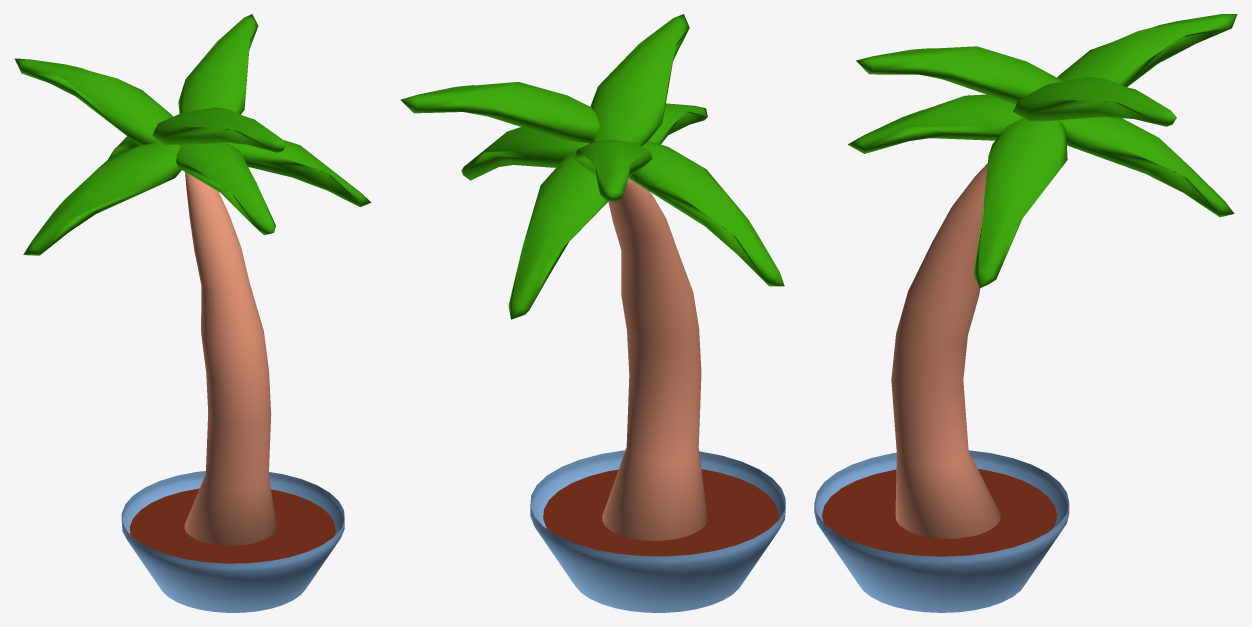
File: PalmTree.fbx
3 views of the same model, side by side, from view 1: azimuth 30°, elevation 25°; view 2: azimuth 150°, elevation 25°; view 3: azimuth 270°, elevation 25° (orthographic). The views are drawn at different scales.
Visible parts, largest first — view 1: Cylinder, Cylinder.001, Cylinder.002, Icosphere.003, Icosphere.004, Icosphere.005, Icosphere.002, Icosphere.006, Icosphere.001; view 2: Cylinder, Cylinder.001, Cylinder.002, Icosphere.006, Icosphere.003, Icosphere, Icosphere.005, Icosphere.001, Icosphere.004, Icosphere.002; view 3: Cylinder, Cylinder.001, Cylinder.002, Icosphere.001, Icosphere.006, Icosphere, Icosphere.004, Icosphere.002, Icosphere.005.
Boxes of the visible parts, x1=… form: Cylinder: x1=184, y1=172, x2=276, y2=545; Cylinder.001: x1=121, y1=471, x2=344, y2=612; Cylinder.002: x1=130, y1=488, x2=335, y2=563; Icosphere.003: x1=23, y1=141, x2=181, y2=255; Icosphere.004: x1=14, y1=58, x2=172, y2=145; Icosphere.005: x1=178, y1=14, x2=258, y2=114; Icosphere.002: x1=176, y1=142, x2=275, y2=235; Icosphere.006: x1=152, y1=107, x2=285, y2=152; Icosphere.001: x1=226, y1=140, x2=371, y2=207; Cylinder: x1=602, y1=177, x2=707, y2=540; Cylinder.001: x1=530, y1=450, x2=785, y2=612; Cylinder.002: x1=543, y1=469, x2=778, y2=556; Icosphere.006: x1=588, y1=14, x2=689, y2=146; Icosphere.003: x1=628, y1=141, x2=784, y2=286; Icosphere: x1=508, y1=150, x2=607, y2=319; Icosphere.005: x1=400, y1=82, x2=599, y2=142; Icosphere.001: x1=461, y1=127, x2=588, y2=180; Icosphere.004: x1=574, y1=139, x2=652, y2=202; Icosphere.002: x1=648, y1=103, x2=707, y2=144; Cylinder: x1=891, y1=163, x2=1000, y2=538; Cylinder.001: x1=814, y1=450, x2=1069, y2=612; Cylinder.002: x1=822, y1=469, x2=1057, y2=556; Icosphere.001: x1=973, y1=117, x2=1067, y2=287; Icosphere.006: x1=856, y1=46, x2=1063, y2=104; Icosphere: x1=1059, y1=117, x2=1234, y2=217; Icosphere.004: x1=1057, y1=14, x2=1237, y2=86; Icosphere.002: x1=848, y1=94, x2=1022, y2=153; Icosphere.005: x1=1013, y1=77, x2=1176, y2=126.
Bounding box in the file's own units: 697 × 982 × 710.
